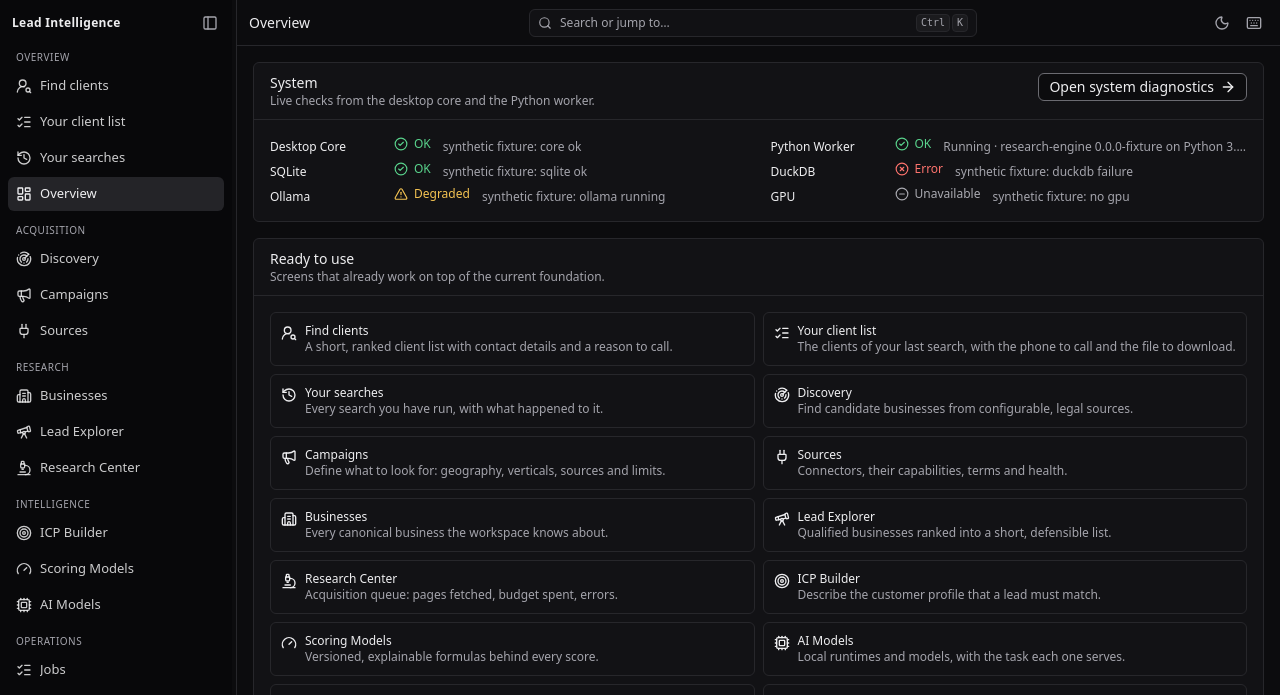
Test case: application shell › opens the command palette with Ctrl+K and navigates from it
Type keys "{Control>}k{/Control}"
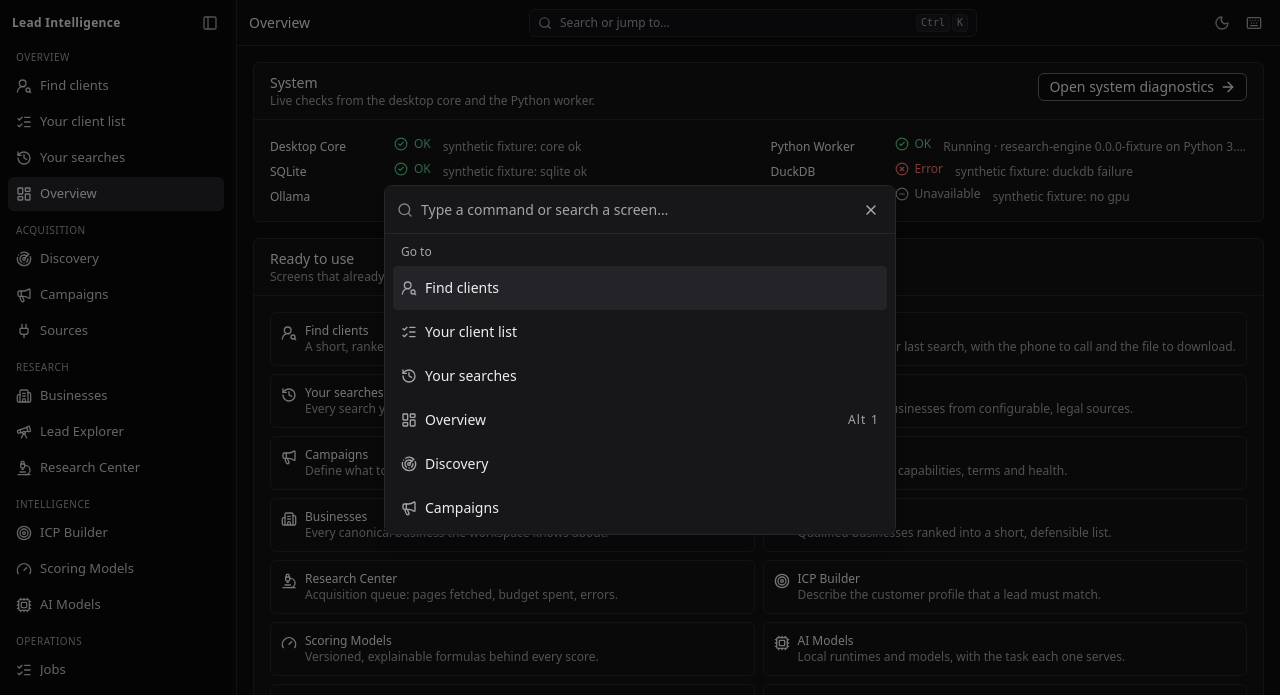
Type "jobs" into the dropdown at x=652, y=210, box [421, 186, 883, 234]
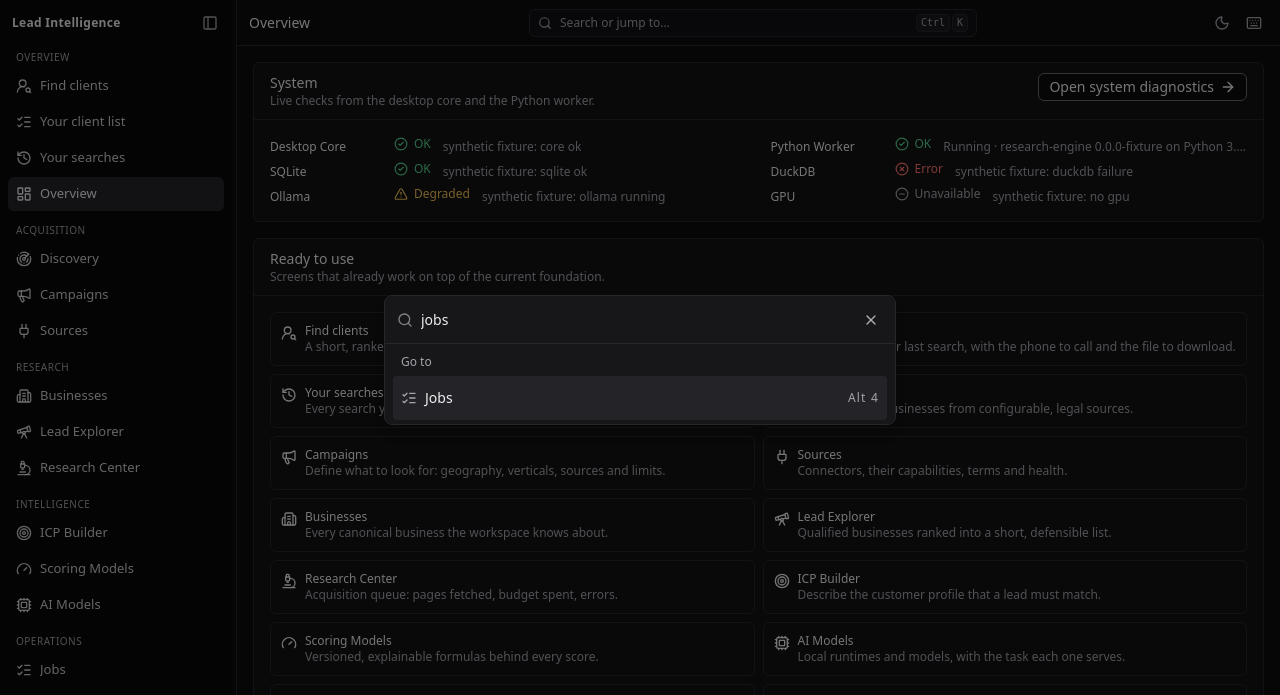
Press Enter
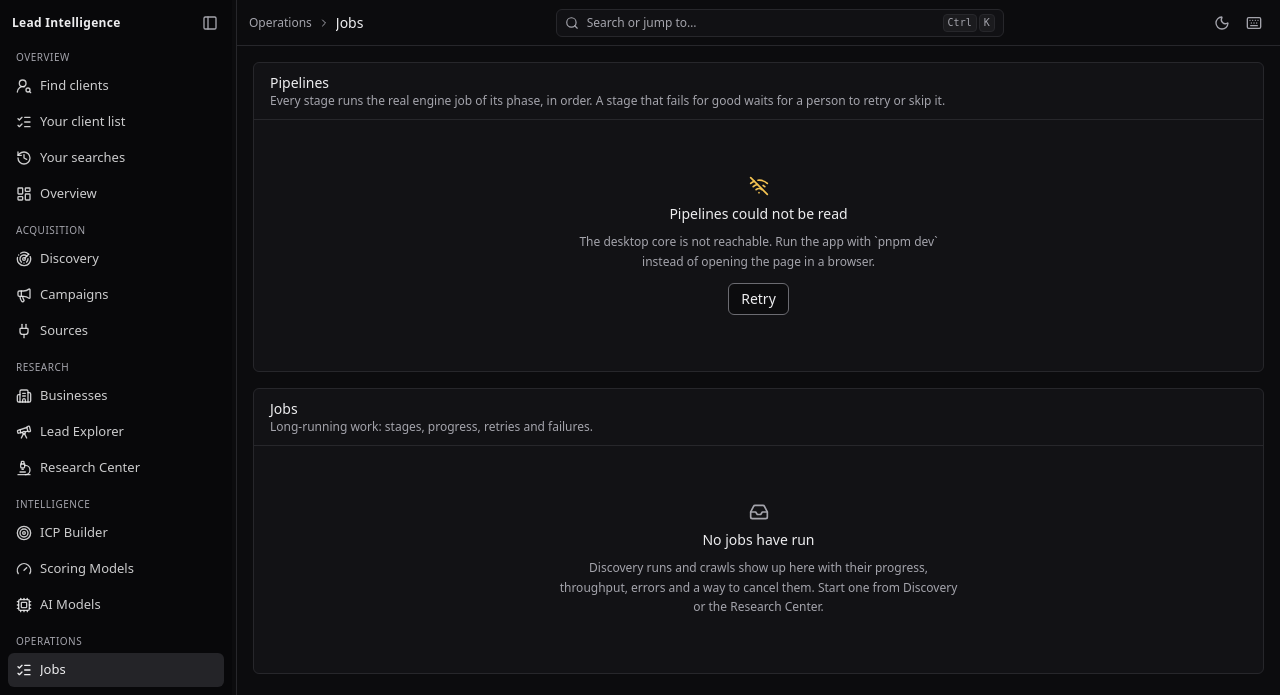
Now the text "No jobs have run" is shown, box [702, 530, 814, 550]
